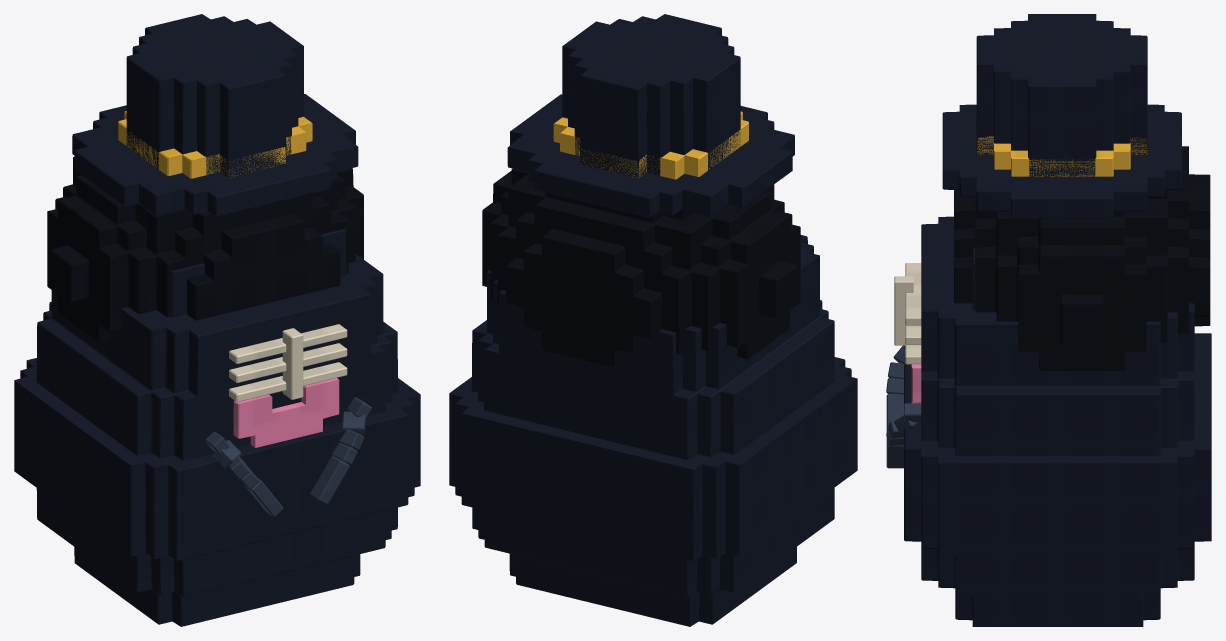
File: Brook_Egg.fbx
The picture shows the model from 3 angles, left to right: view 1: azimuth 30°, elevation 25°; view 2: azimuth 150°, elevation 25°; view 3: azimuth 270°, elevation 25°; orthographic projection.
Visible parts, largest first — view 1: Brook_Egg; view 2: Brook_Egg; view 3: Brook_Egg.
Boxes of the visible parts, x1=… form: Brook_Egg: x1=14, y1=14, x2=420, y2=626; Brook_Egg: x1=449, y1=14, x2=857, y2=626; Brook_Egg: x1=886, y1=14, x2=1211, y2=626.
Bounding box in the file's own units: 188 × 320 × 179.
Materials: 6 (6 with a texture image).
